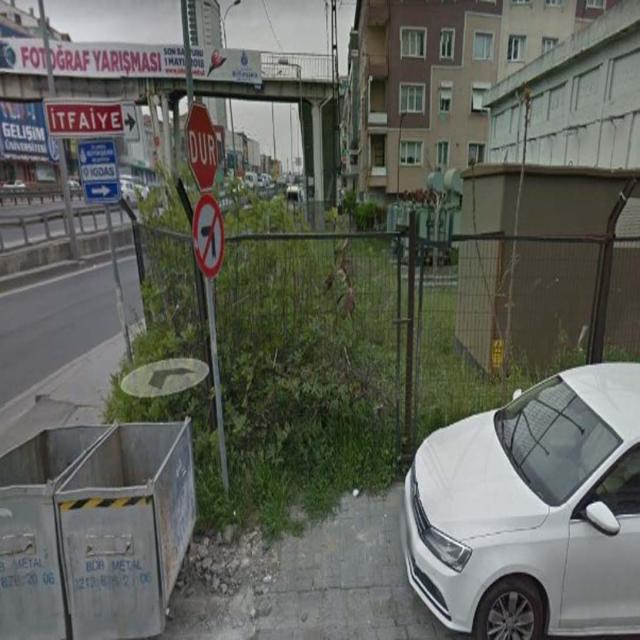dur: (185, 101, 219, 193)
soladonulmez: (192, 195, 224, 281)
